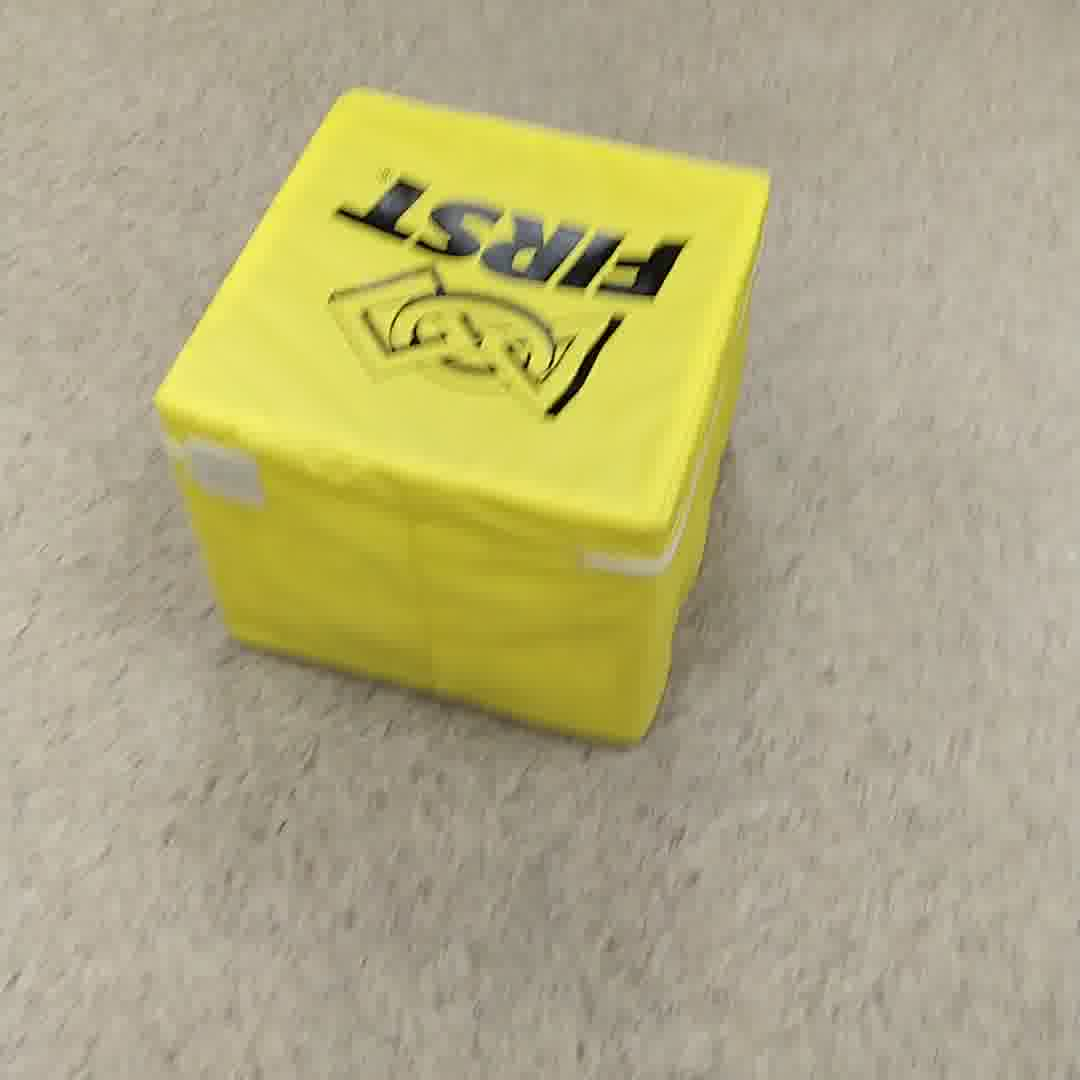box: (160, 92, 772, 733)
